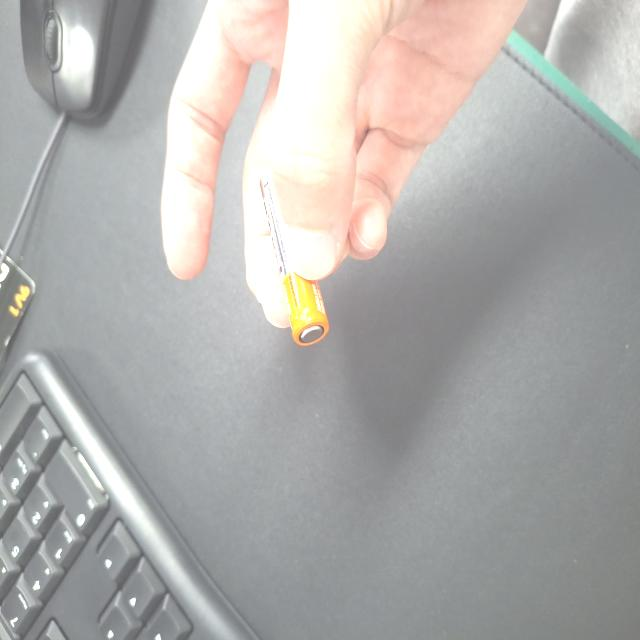AAA: (222, 346, 354, 438)
